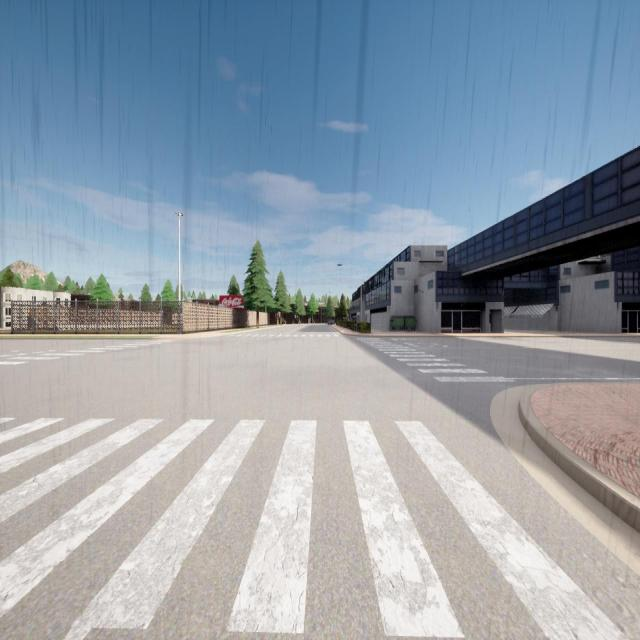Vehicle: (327, 320, 335, 325)
